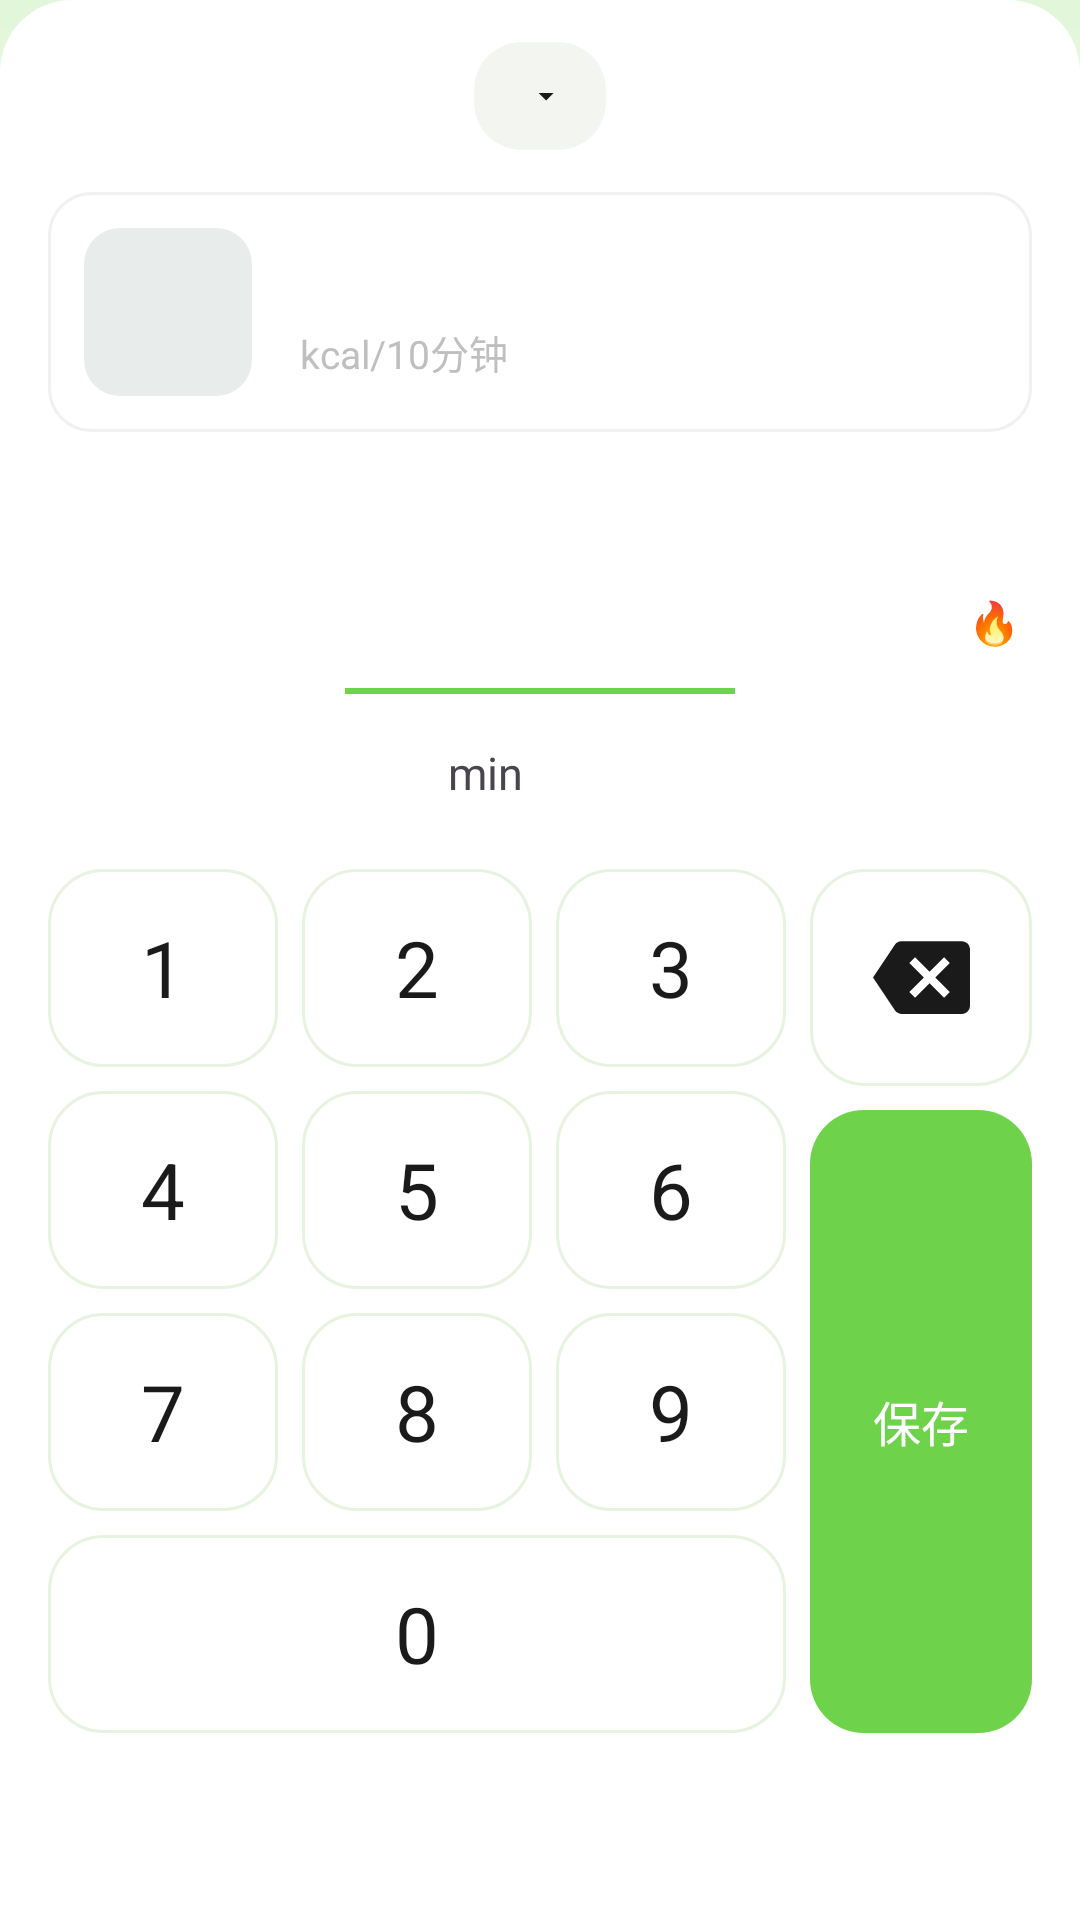

Icon bounding boxes for this 1080 × 1920 phone screenshot, format BBox(x1, y1, x2, y2):
删除: BBox(810, 869, 1032, 1086)
